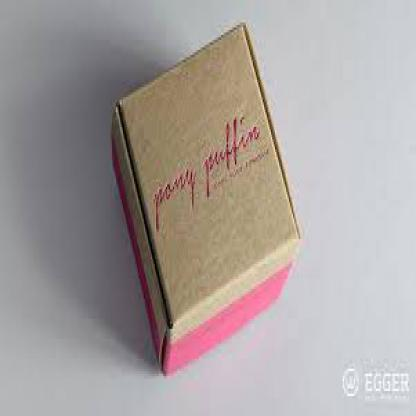CARDBOARD: (109, 20, 299, 374)
